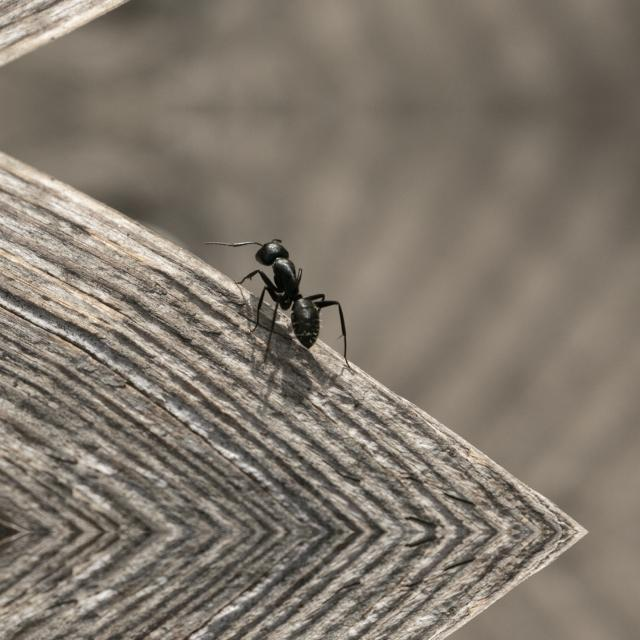Camponotus: (210, 220, 358, 376)
